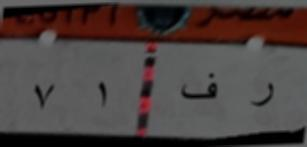1: (85, 77, 124, 114)
7: (23, 76, 62, 113)
faa: (173, 67, 225, 108)
raa: (247, 78, 279, 113)
